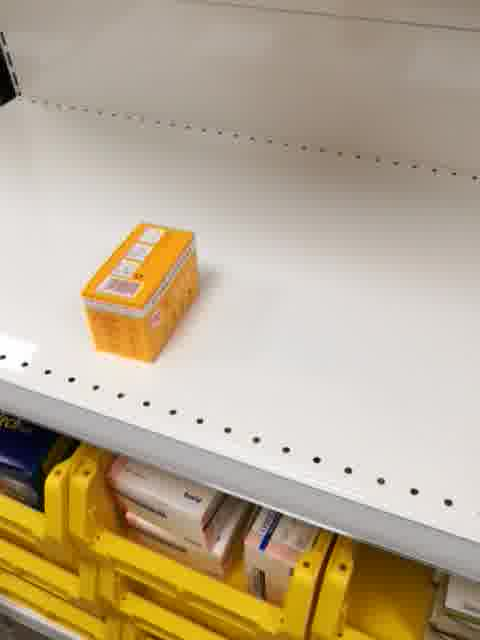jasminetea: (82, 218, 200, 364)
